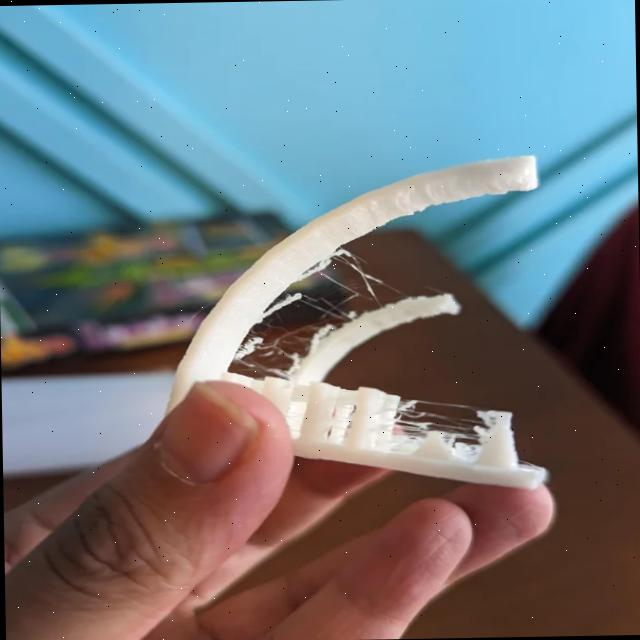stringing: (234, 249, 409, 376), (403, 397, 500, 440)
